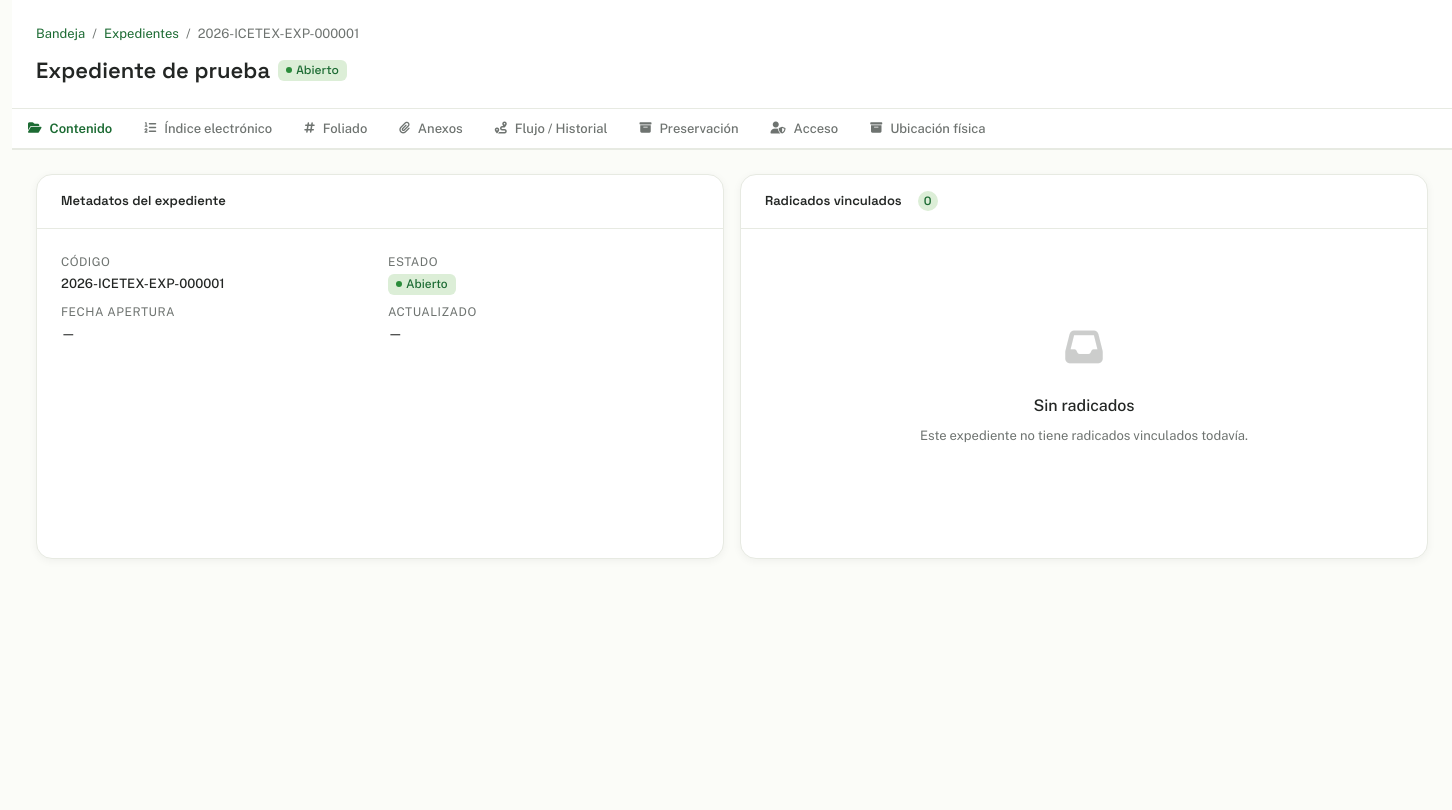
Test: /expedientes/[id] — versiones del AIP › muestra las versiones con su motivo en español
What coordinates should you click on to do the following:
click the tab "Preservación"
I would click on:
 (689, 130)
Its box is [624,109,755,150].
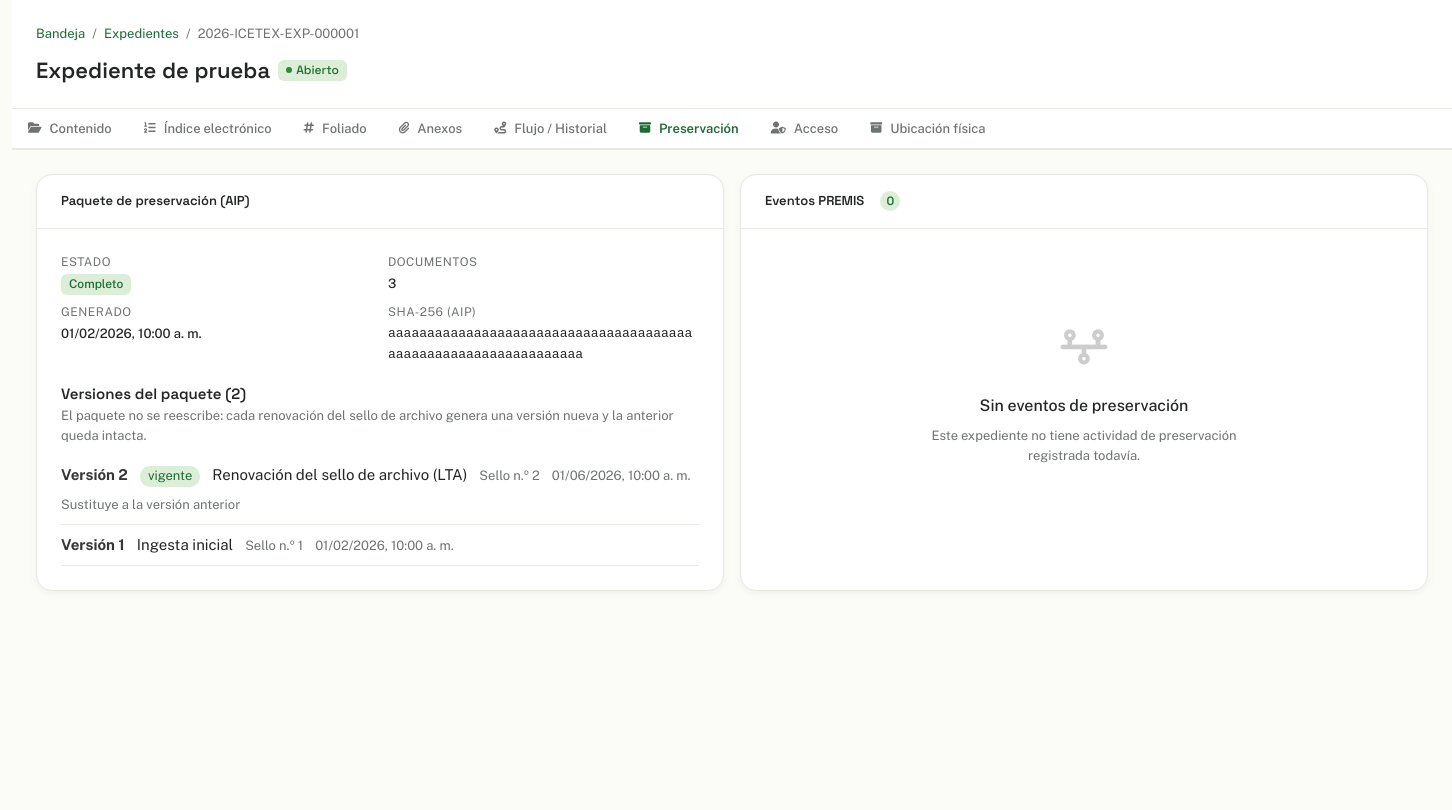
Now the text "Generado" is shown, box [61,305,132,319]
Now the heading "Versiones del paquete (2)" is shown, box [61,384,246,402]
Now the text "Renovación del sello de archivo (LTA)" is shown, box [212,463,467,487]
